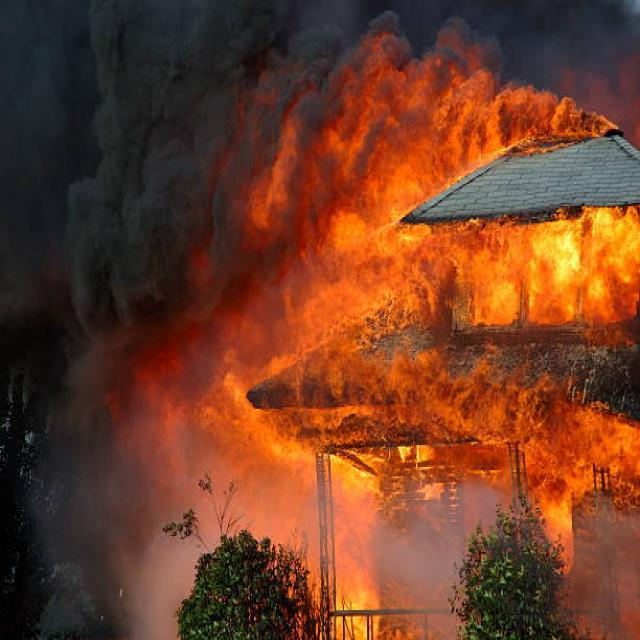Fire: (161, 48, 640, 640)
Smoke: (0, 0, 448, 362)
